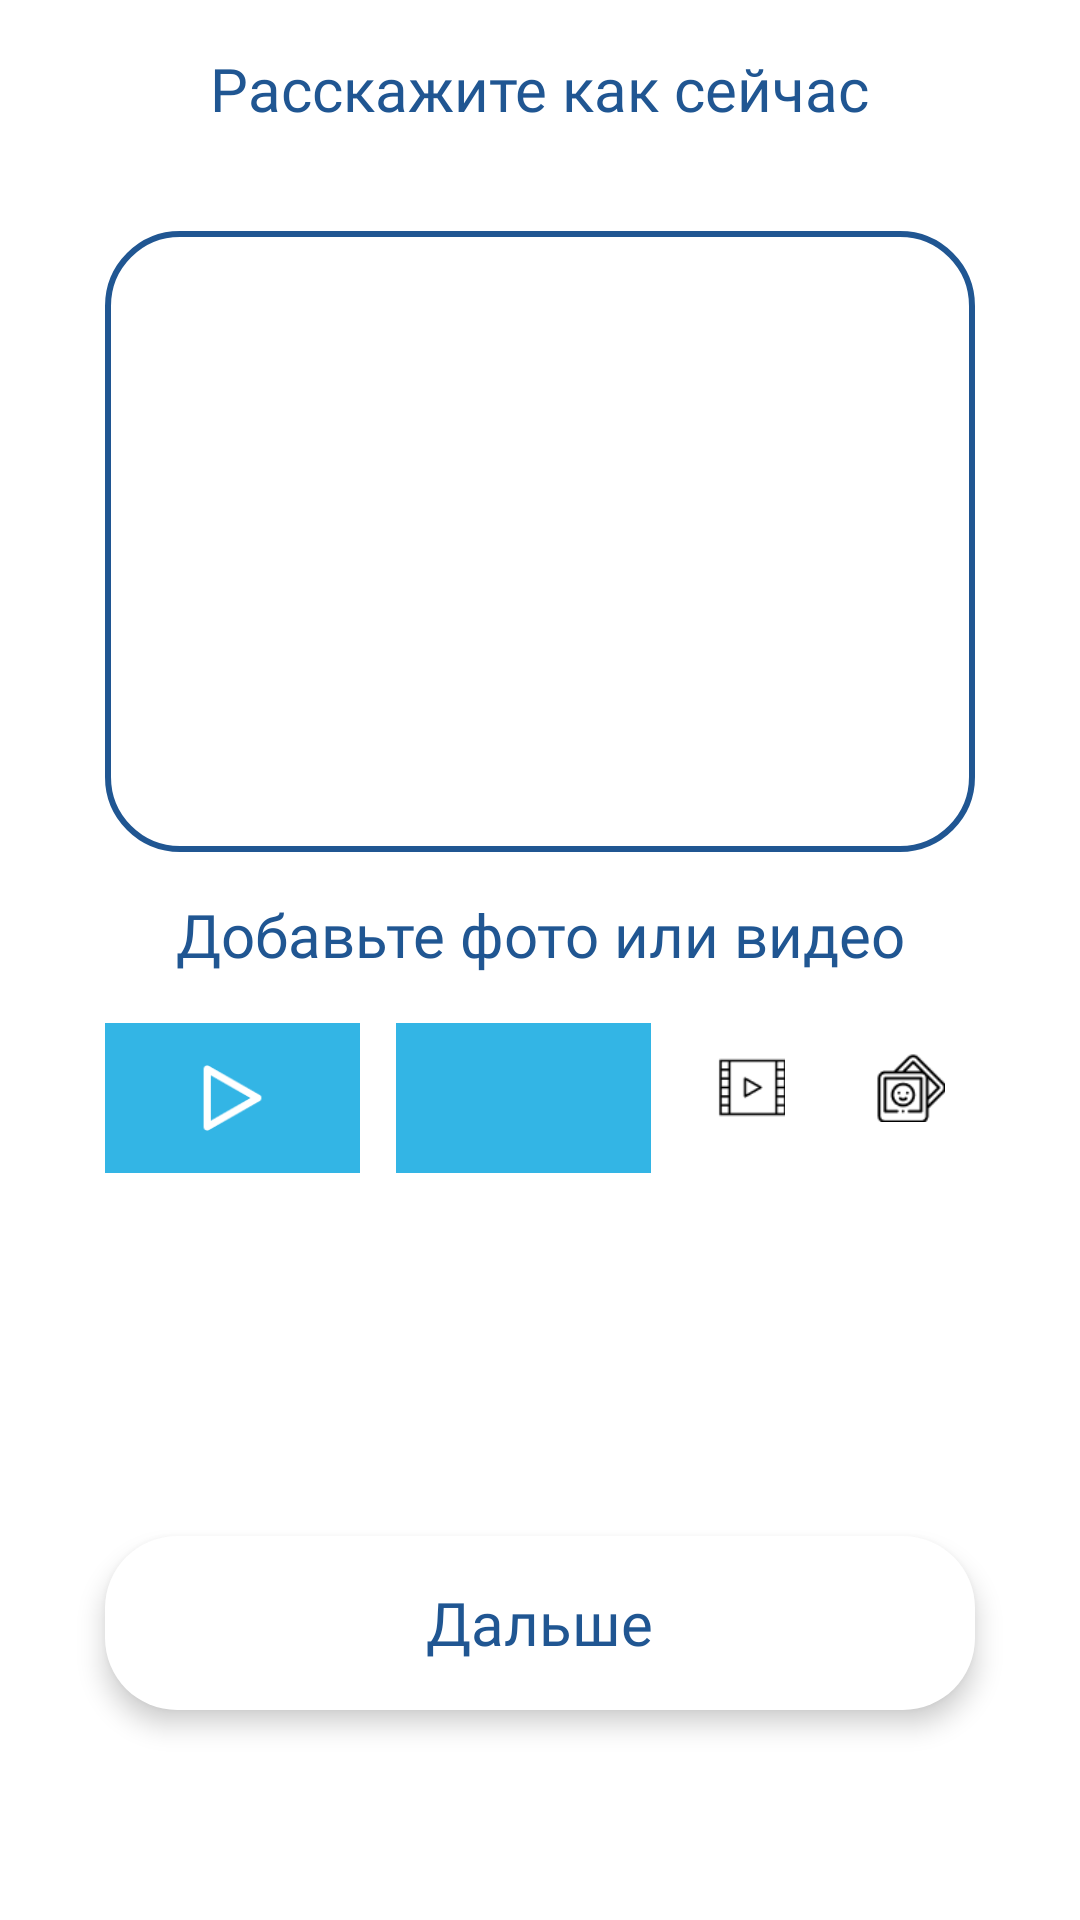

Point at icon controls on the screen. Image size 1080px×1920px, points as (x=x, y=y).
play: (x=232, y=1098)
take photo: (x=911, y=1088)
video player: (x=752, y=1087)
